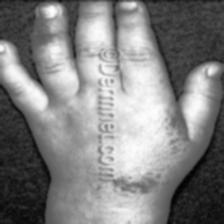Non-Cancerous Skin Condition: (140, 105, 196, 162), (118, 170, 164, 218), (34, 19, 64, 55)
